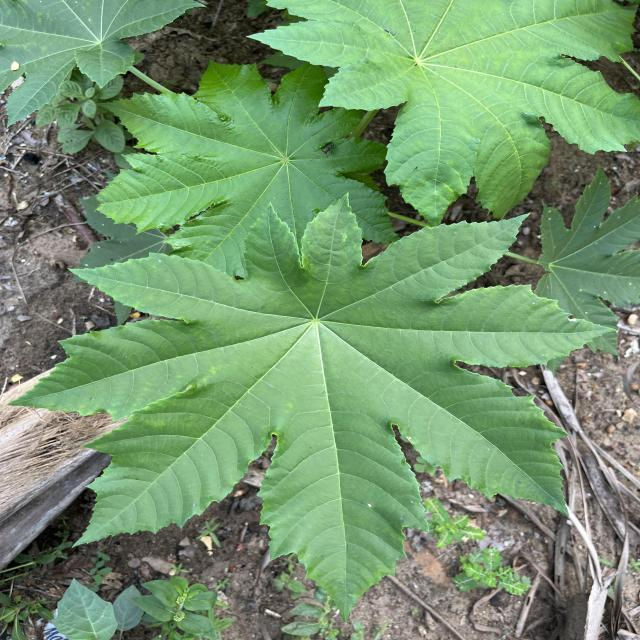Ricinus communis linn: (2, 185, 626, 628), (86, 55, 406, 282)
